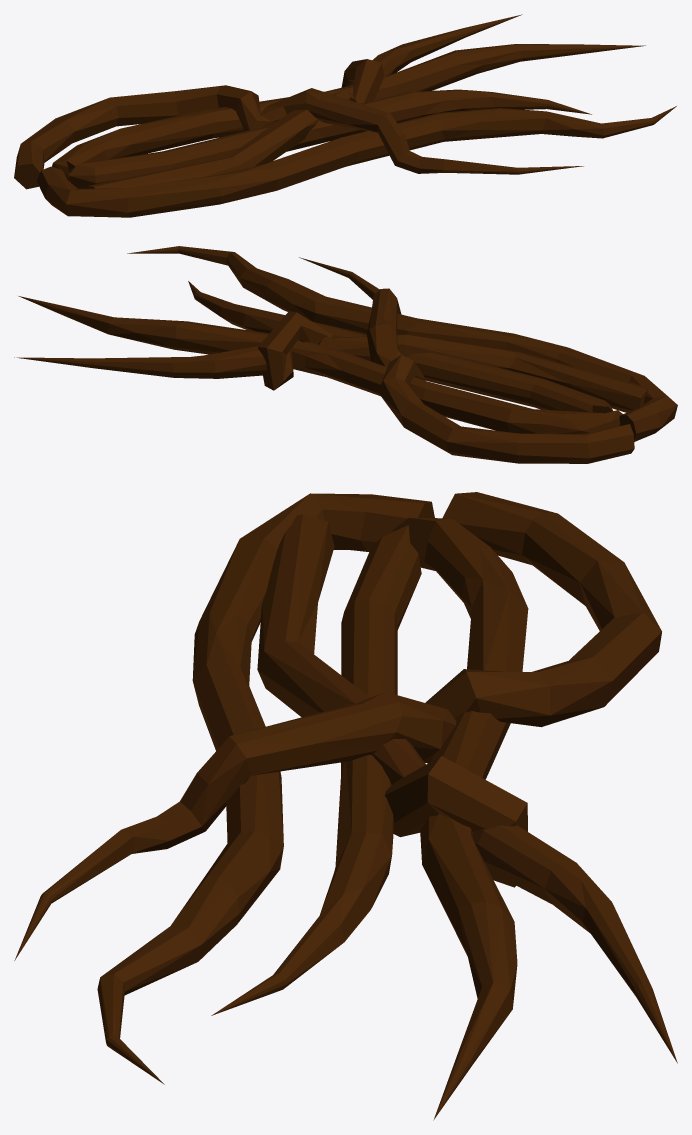
3 views of the same model, one above another, from view 1: azimuth 30°, elevation 25°; view 2: azimuth 150°, elevation 25°; view 3: azimuth 270°, elevation 25° (orthographic). The views are drawn at different scales.
Parts seen in each view (by area): view 1: Root_03; view 2: Root_03; view 3: Root_03.
Boxes of the visible parts, x1,y1,x2,y2 form: Root_03: [14, 14, 676, 217]; Root_03: [14, 246, 677, 463]; Root_03: [14, 492, 677, 1120].
Bounding box in the file's own units: 291 × 27.72 × 139.
